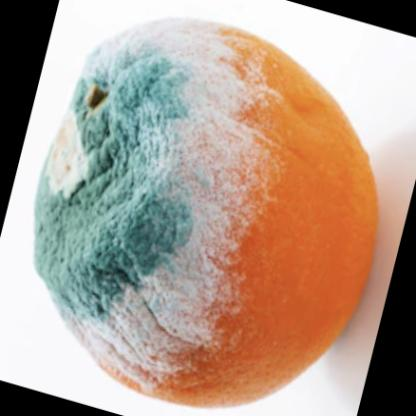rotten: (36, 21, 378, 406)
